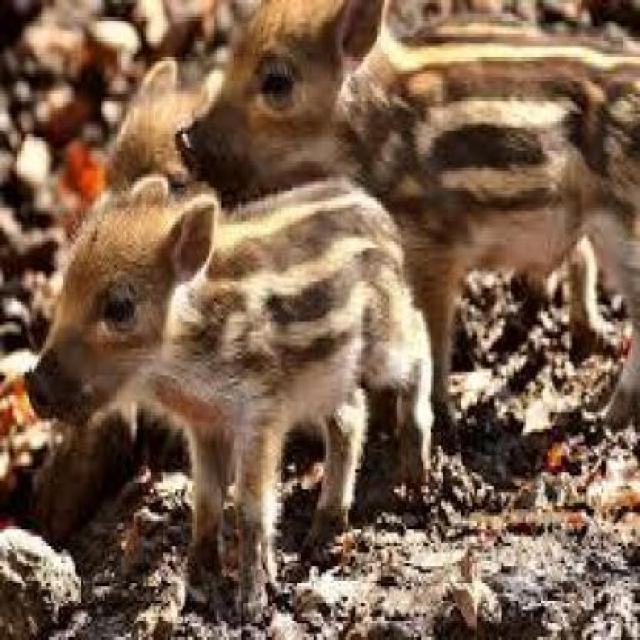wildboar: (94, 0, 640, 438), (22, 145, 452, 604)
